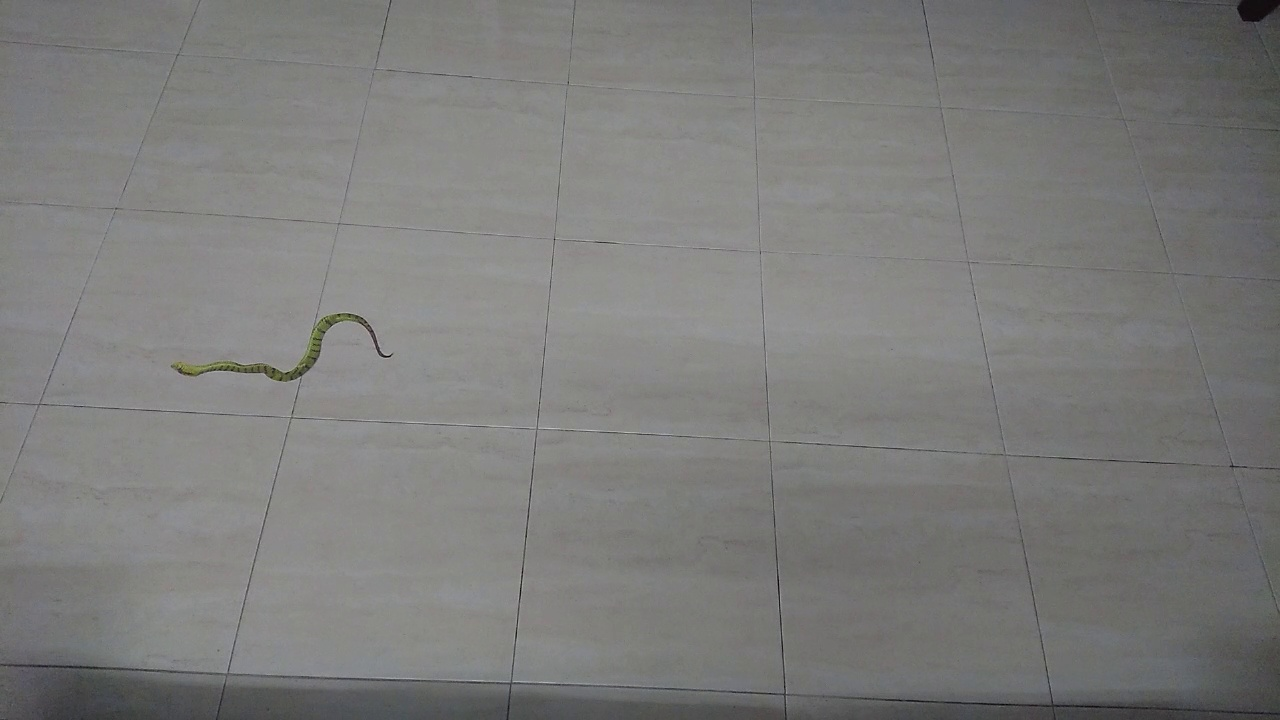snake: (156, 293, 400, 398)
